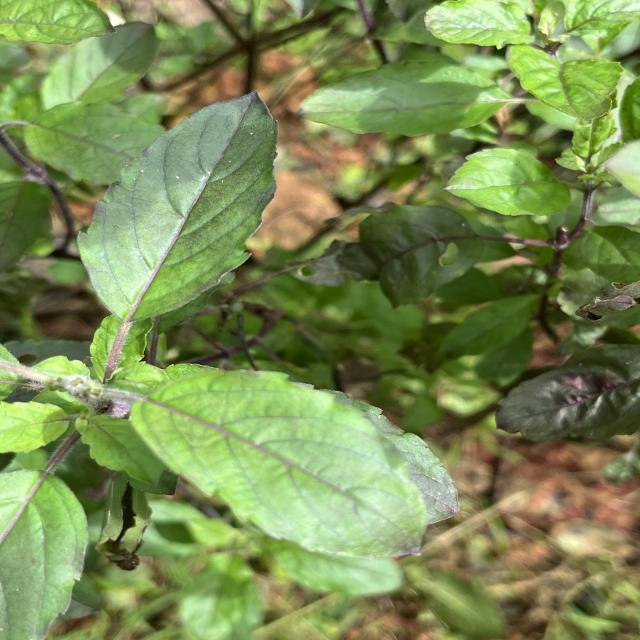Ocimum tenuiflorum: (74, 90, 283, 324)
